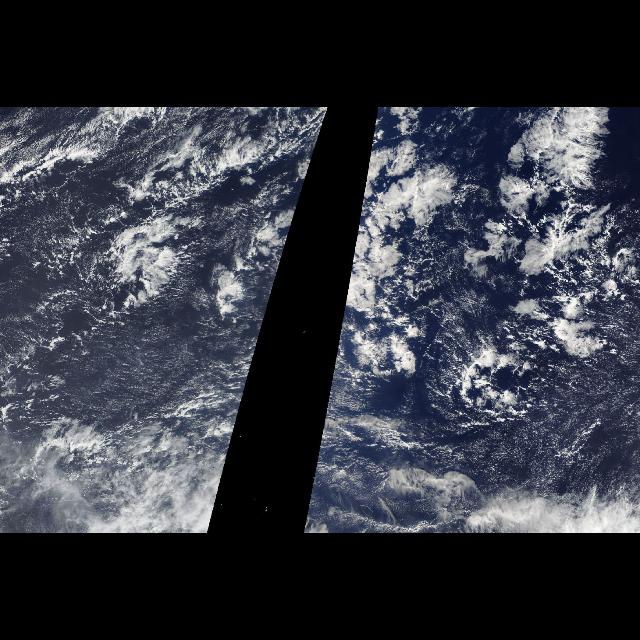Sugar: (431, 360, 639, 490), (7, 304, 224, 418)
